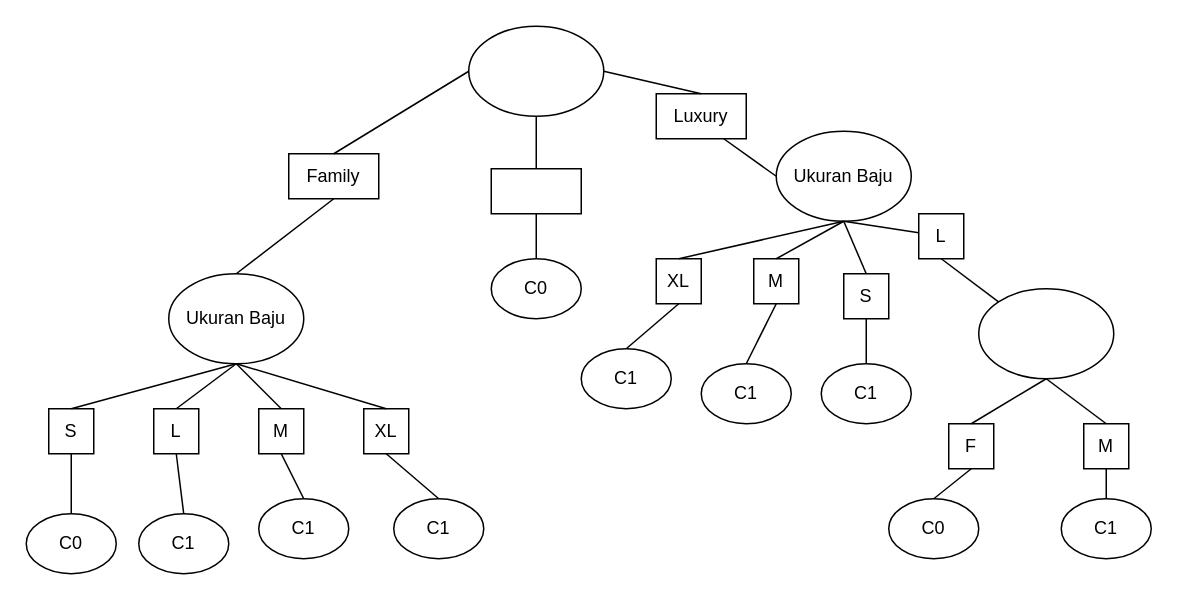
The diagram is 1178 pixels wide and 600 high, and some of its shapes have lost their labels. Here are the shapes that lost their labels. From the top down, the centre of each, then its label:
At (x=535, y=70): "Jenis Mobil".
At (x=535, y=190): "Sports".
At (x=1045, y=333): "Jenis Kelamin".
